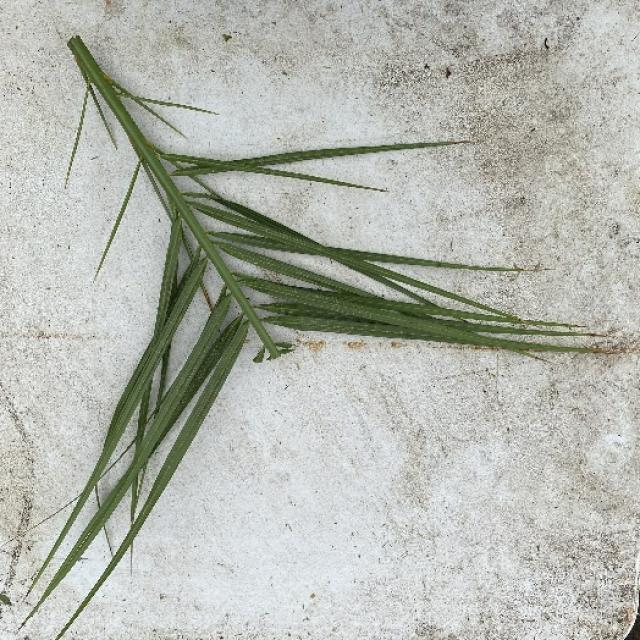organik: (26, 45, 575, 598)
